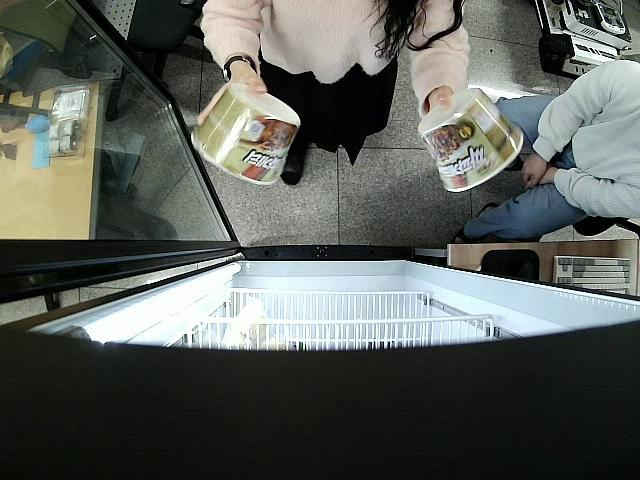03_chapagetti_L: (418, 88, 525, 193), (189, 84, 301, 184)
